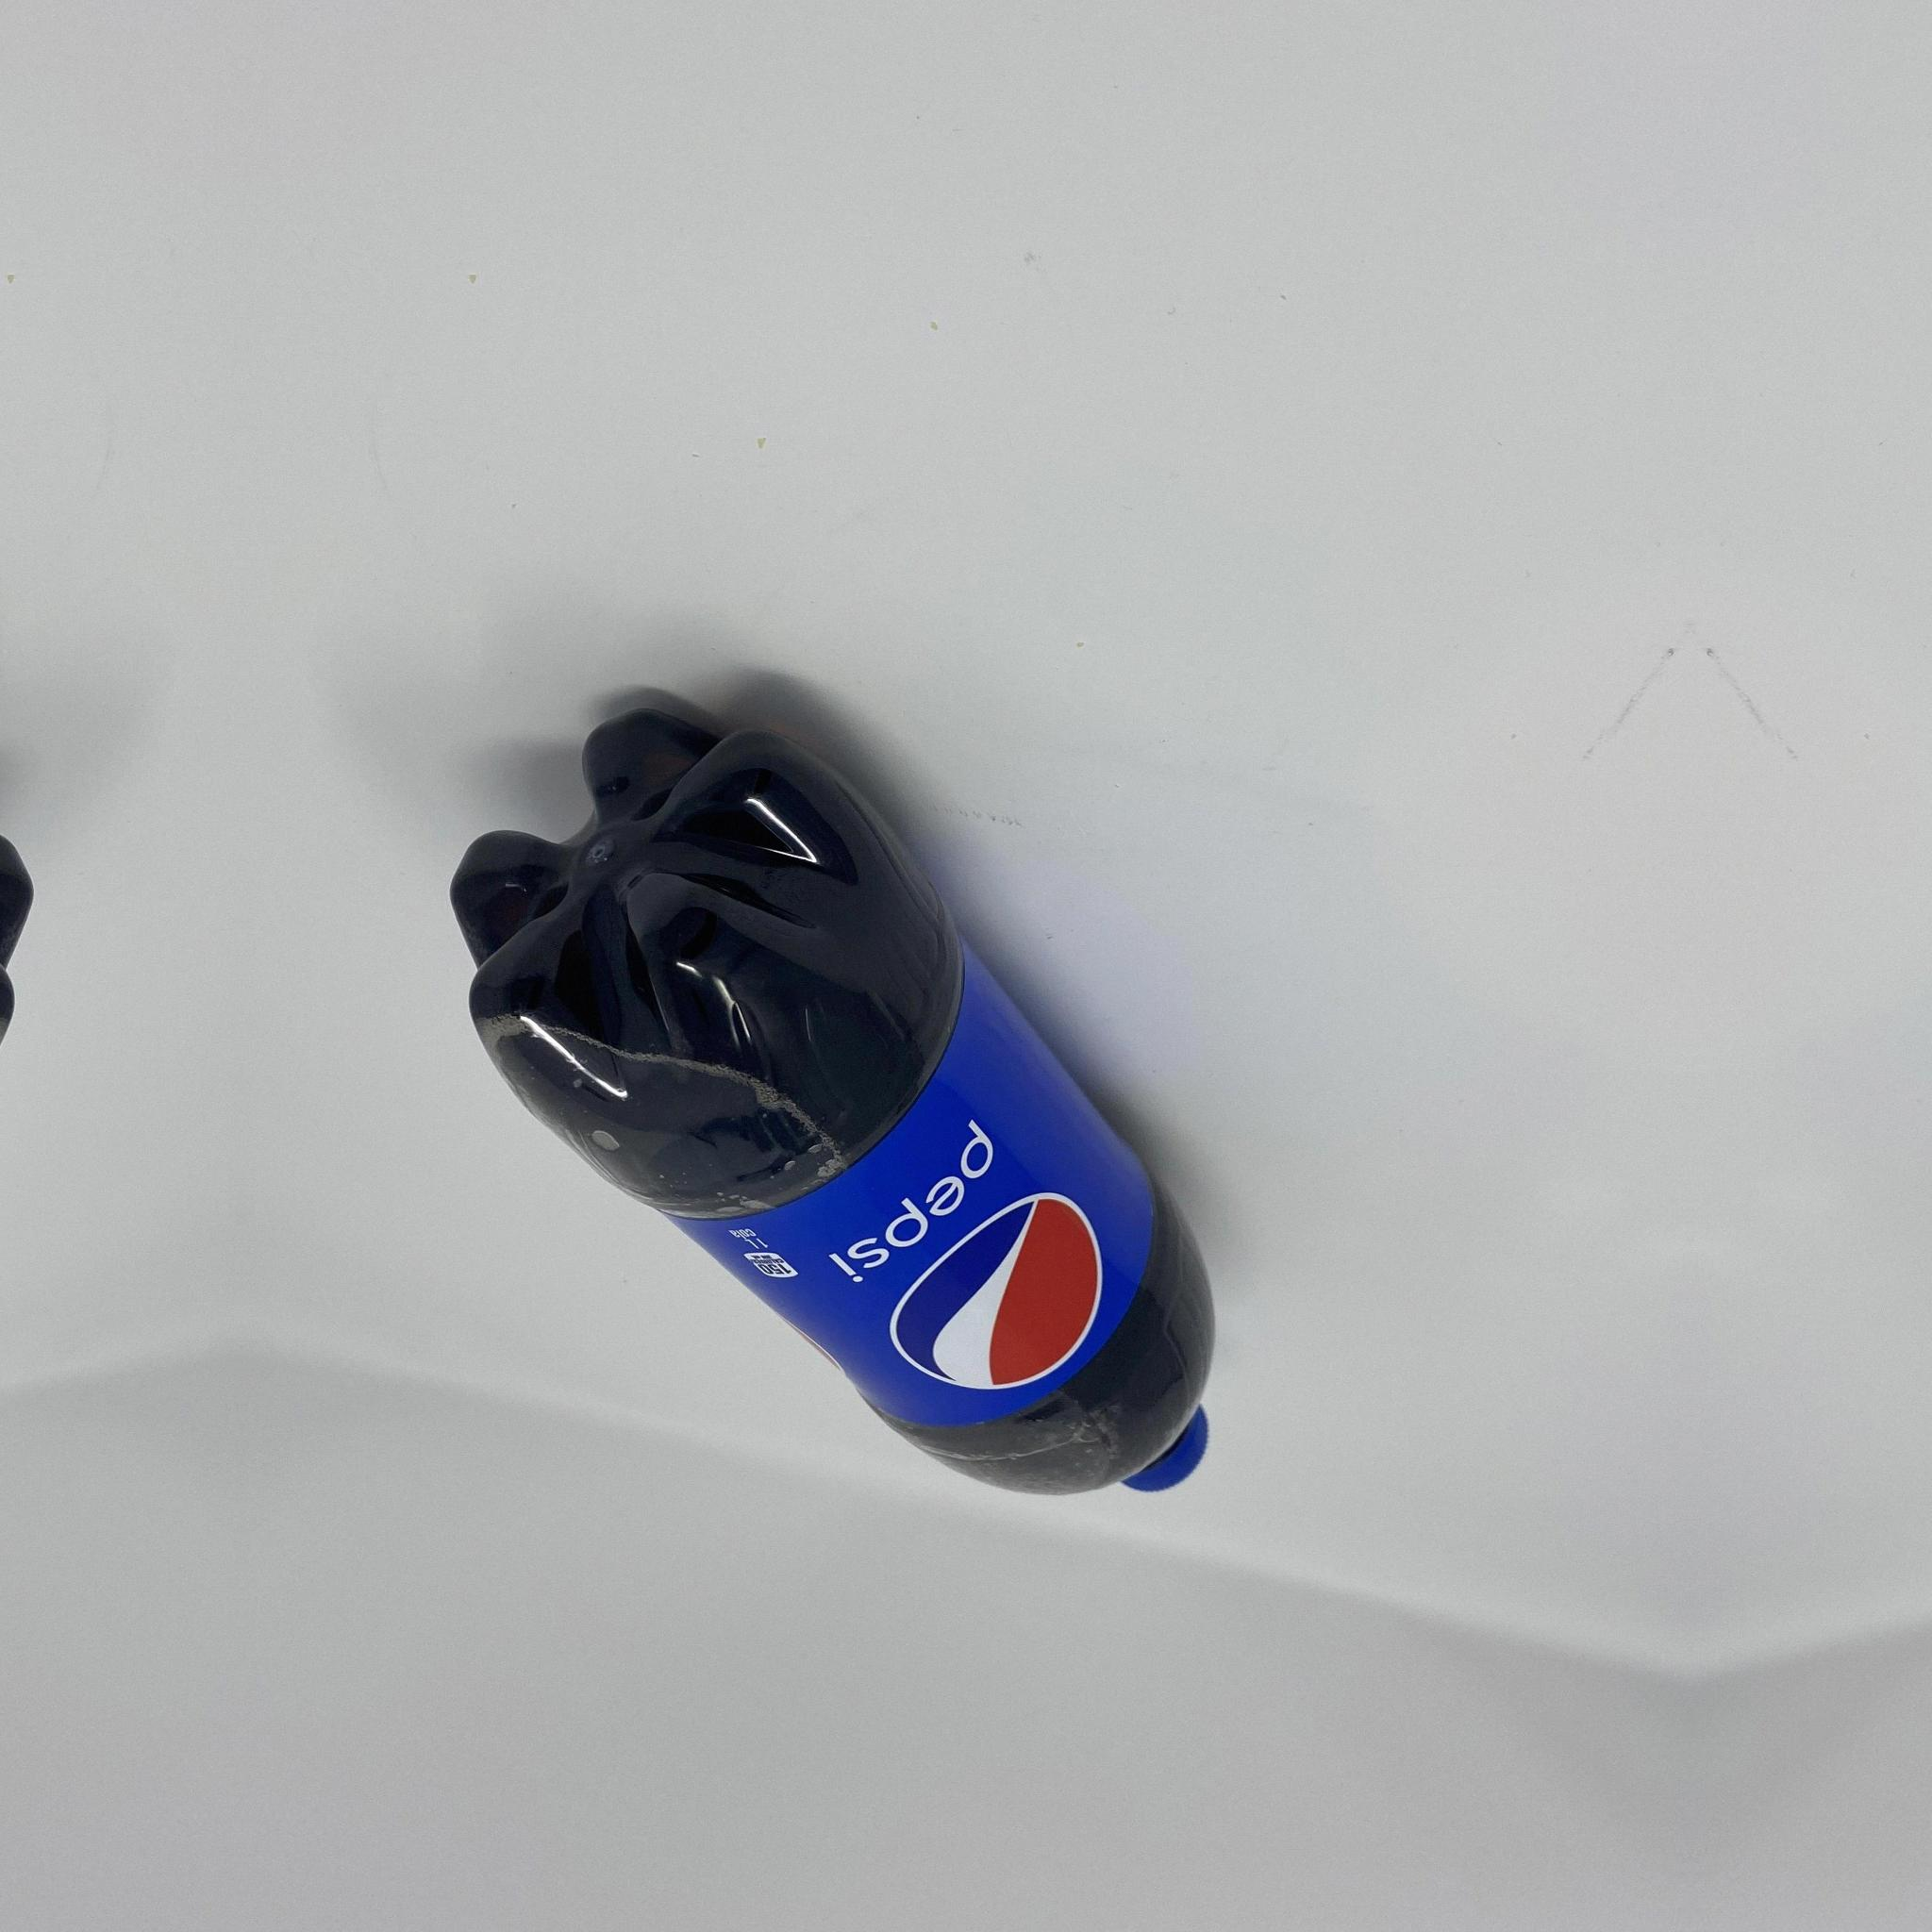PET: (449, 694, 1217, 1497)
pepsi: (449, 694, 1217, 1497)
plastic: (449, 694, 1217, 1497)
soft-drink: (449, 694, 1217, 1497)
